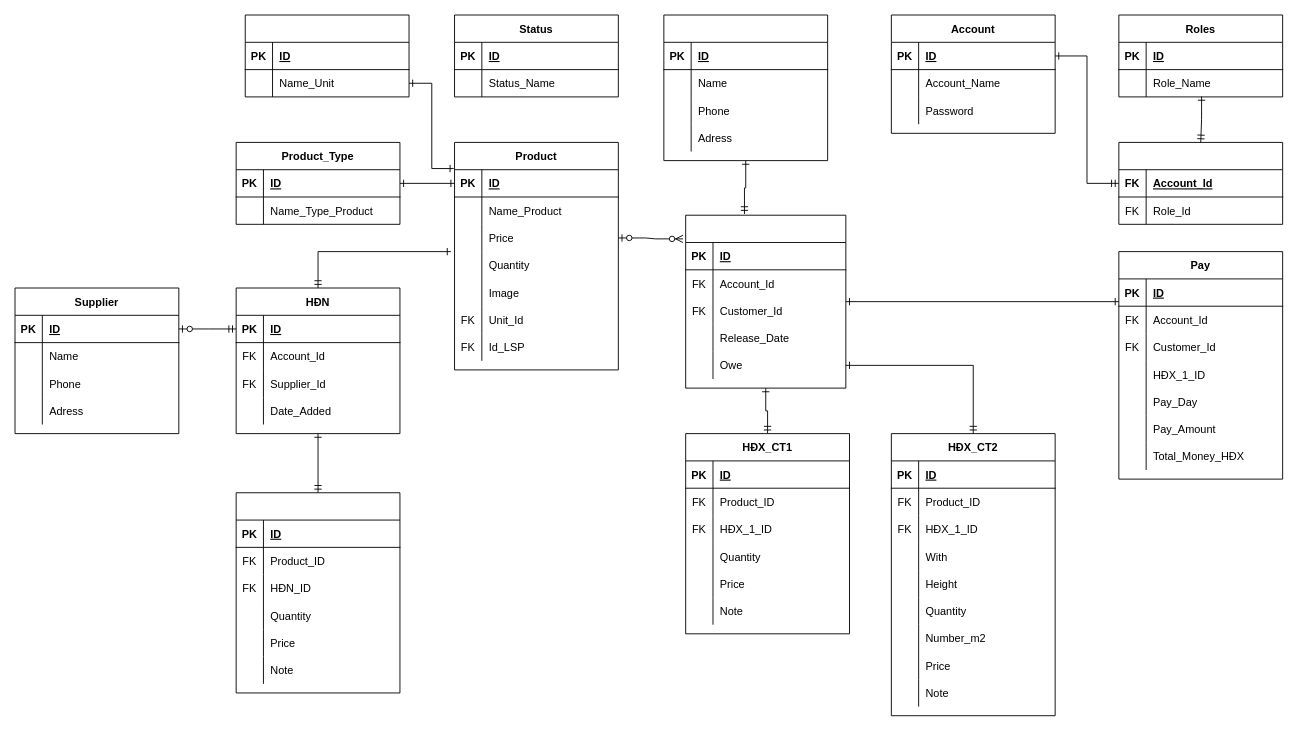
The diagram is 1298 pixels wide and 731 high, and some of its shapes have lost their labels. Each missing label, with the box of its shape:
Authorities: (1118, 142, 1283, 224)
Category: (244, 14, 409, 97)
Customer: (663, 14, 828, 161)
HĐN_CT: (235, 492, 400, 693)
HĐX_1: (685, 214, 846, 388)
